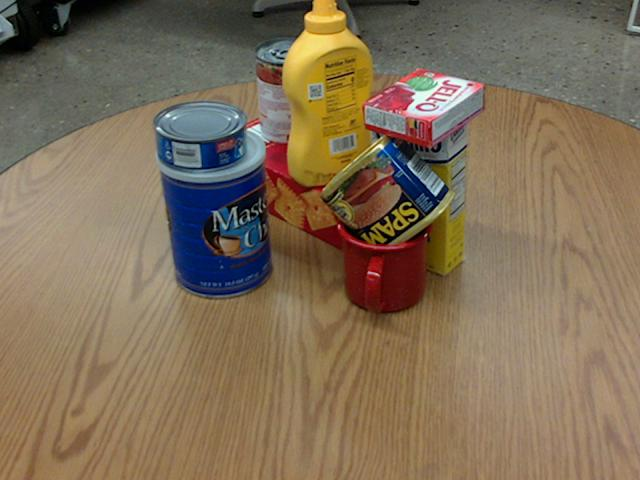cracker_box: (208, 96, 436, 249)
gelatin_box: (363, 68, 484, 146)
large_marker: (199, 121, 225, 224)
master_chef_can: (155, 123, 273, 296)
mug: (335, 199, 434, 314)
mustard_bottle: (283, 0, 376, 186)
potted_meat_can: (318, 129, 455, 261)
sugar_box: (368, 86, 468, 277)
tomato_soup_can: (253, 38, 315, 144)
tuna_fish_can: (152, 99, 246, 170)
